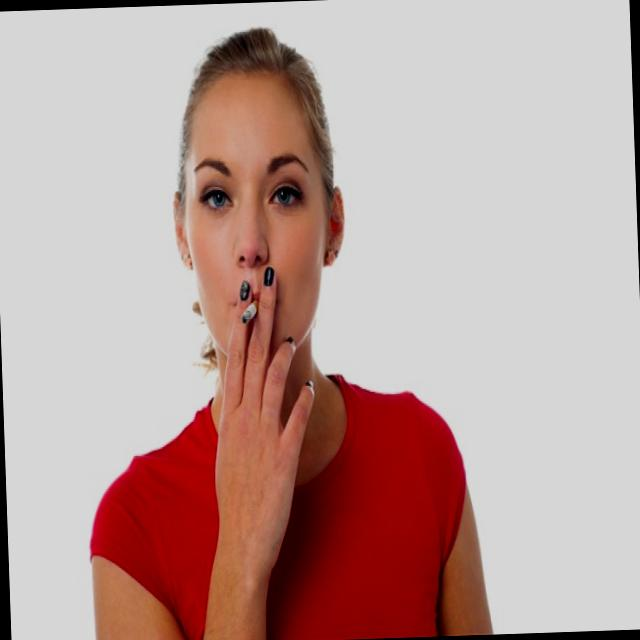smoke: (241, 300, 256, 328)
